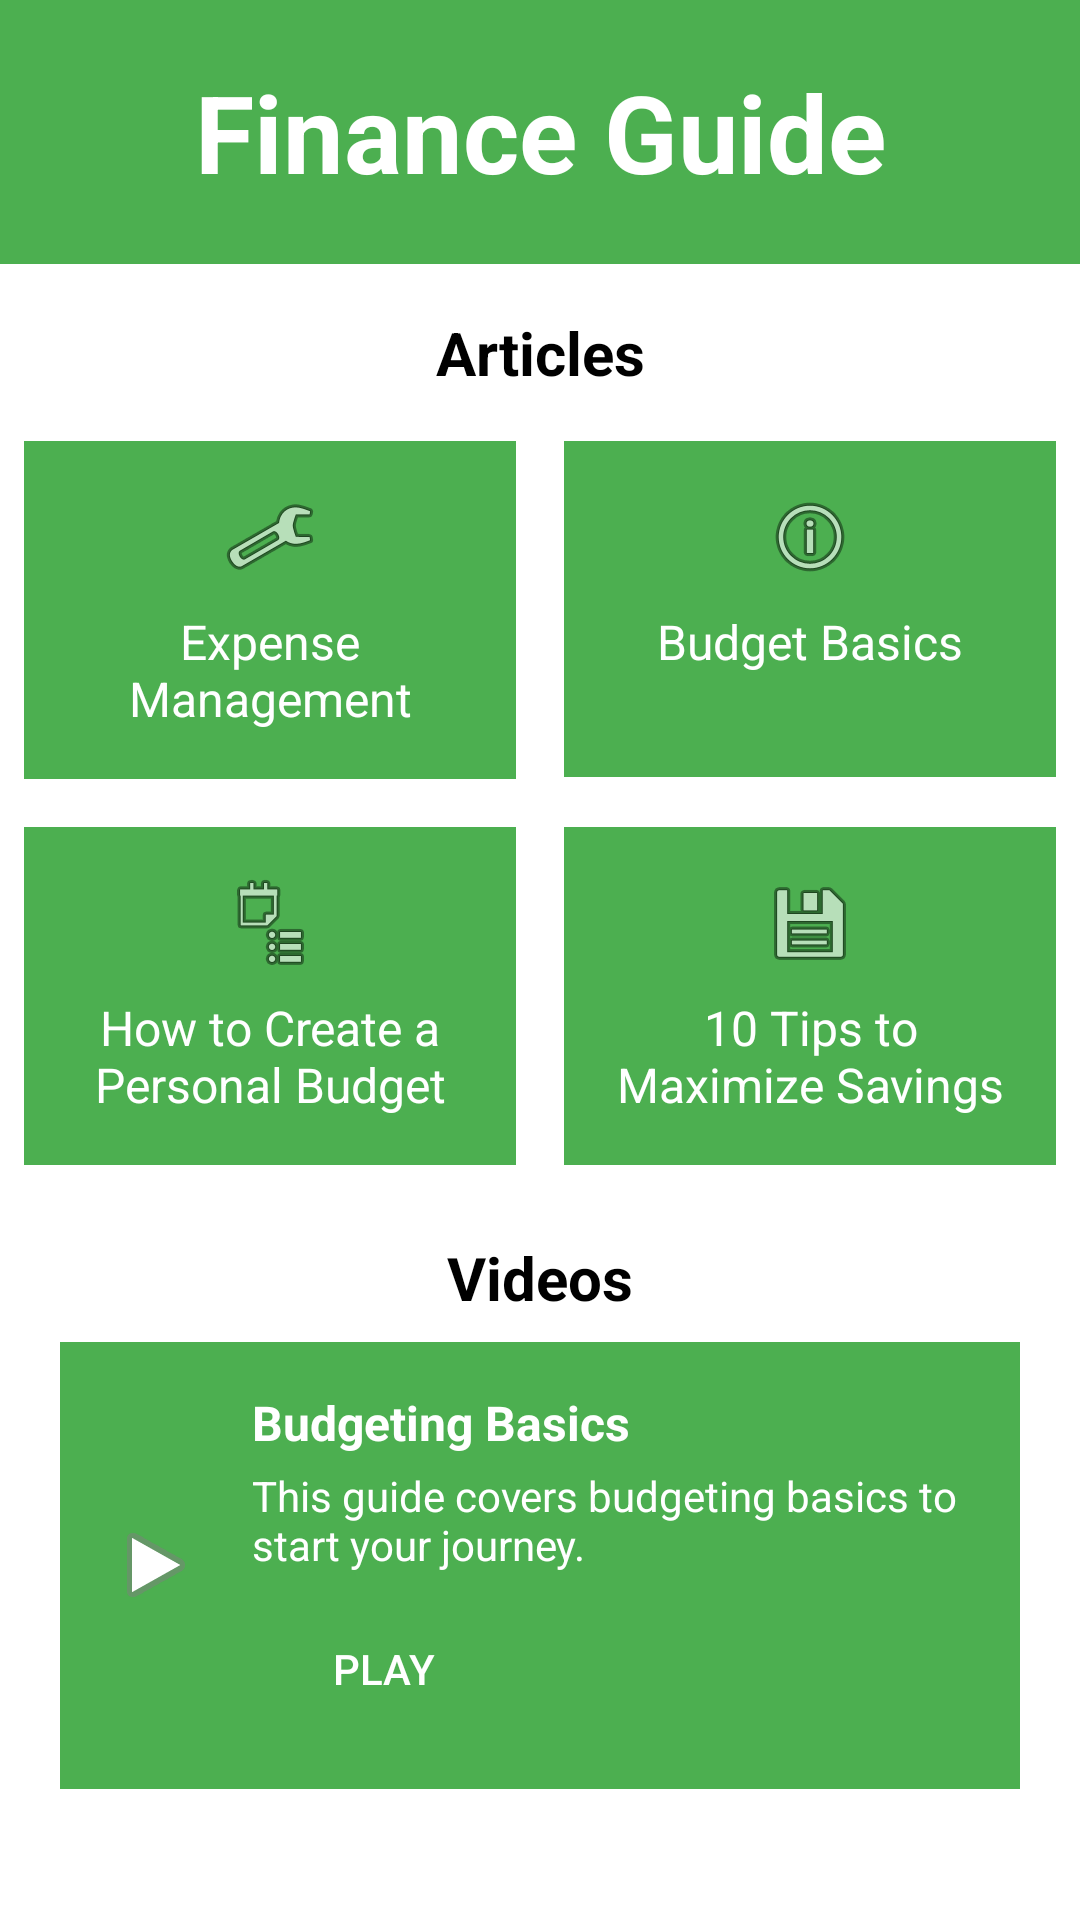

Point at icon controls on the screen. Image size 1080px×1920px, points as point (x, y).
agenda: point (270, 922)
info details: point (810, 537)
save: point (810, 923)
